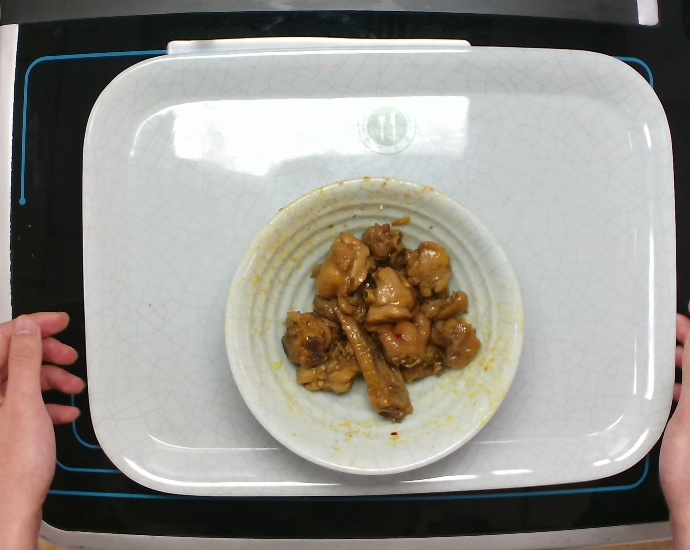JYsf-Xiao_Tang_Wan: (220, 174, 527, 477)
